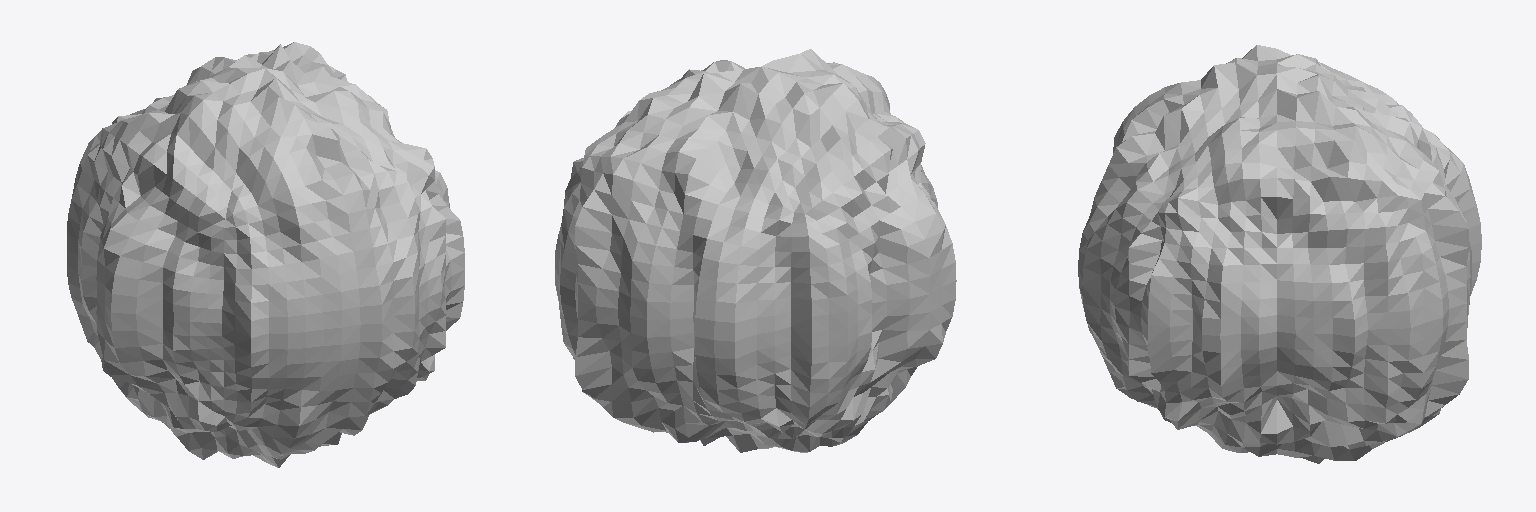
Rendered from asteroid154.obj.
The picture shows the model from 3 angles: view 1: azimuth 30°, elevation 25°; view 2: azimuth 150°, elevation 25°; view 3: azimuth 270°, elevation 25°; orthographic projection.
Visible parts, largest first — view 1: Cube_Cube.002; view 2: Cube_Cube.002; view 3: Cube_Cube.002.
Boxes of the visible parts, box(x1,y1,x2,y2) form: Cube_Cube.002: box(67, 42, 464, 467); Cube_Cube.002: box(555, 49, 956, 452); Cube_Cube.002: box(1078, 45, 1481, 463).
Size of the model in its own units: 1.71 by 1.85 by 1.79.